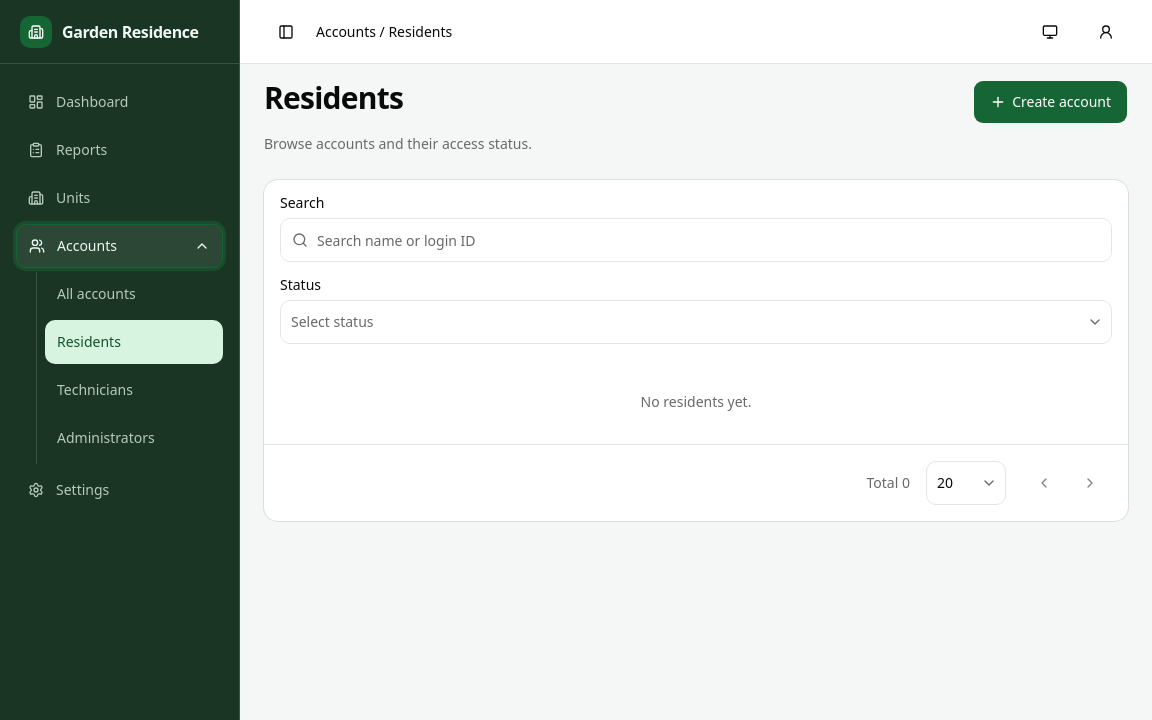
Test: validates account search, opens the correct submenu, and supports keyboard collapse and navigation
The width and height of the screenshot is (1152, 720).
Press Enter
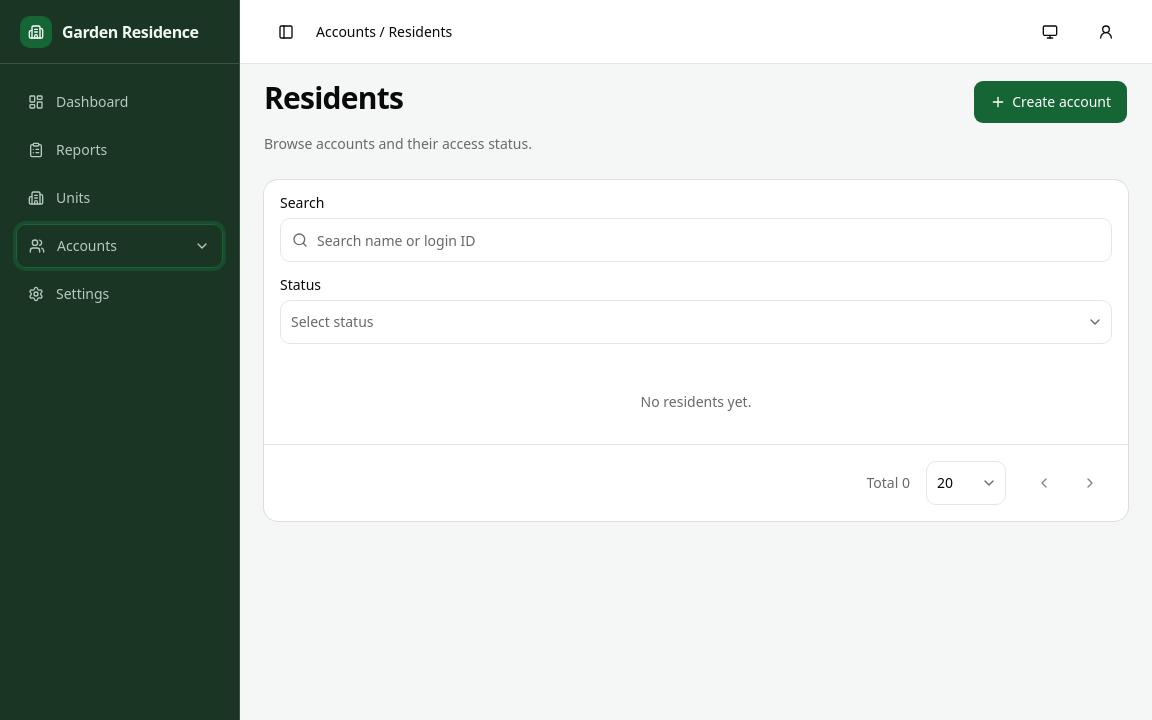
Check: the button "Accounts" is collapsed, box x1=16 y1=224 x2=223 y2=268
Press Enter
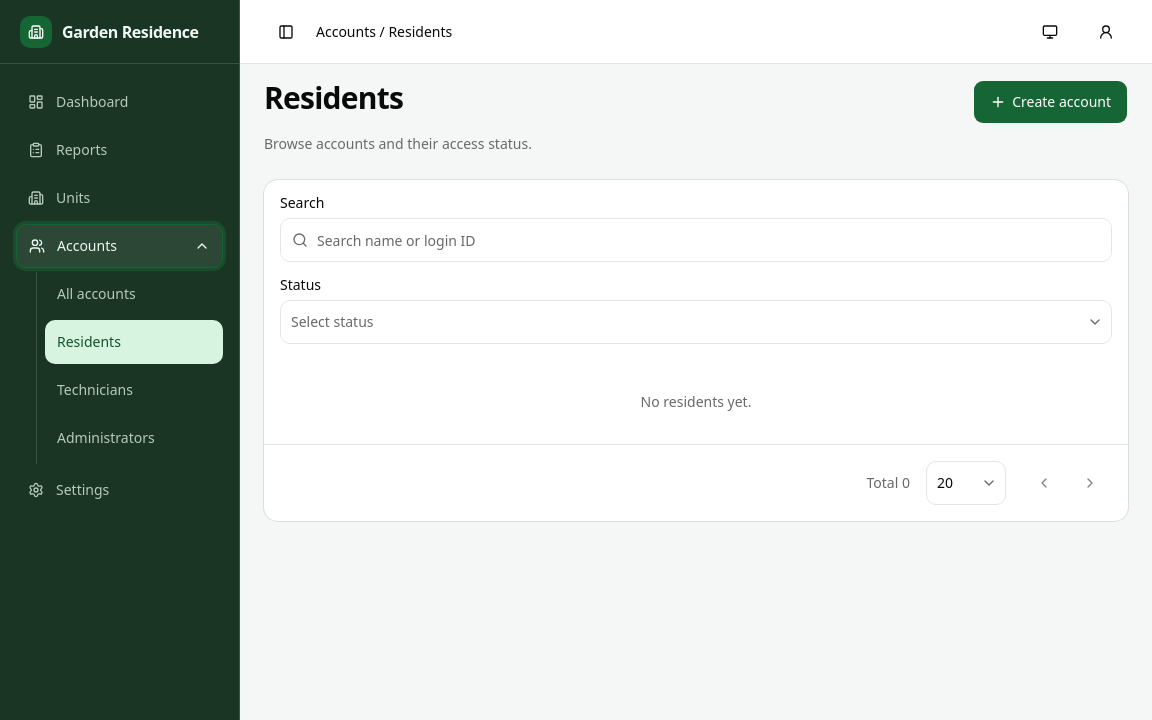
Click the link "Technicians" at (95,390), box x1=57 y1=380 x2=133 y2=399
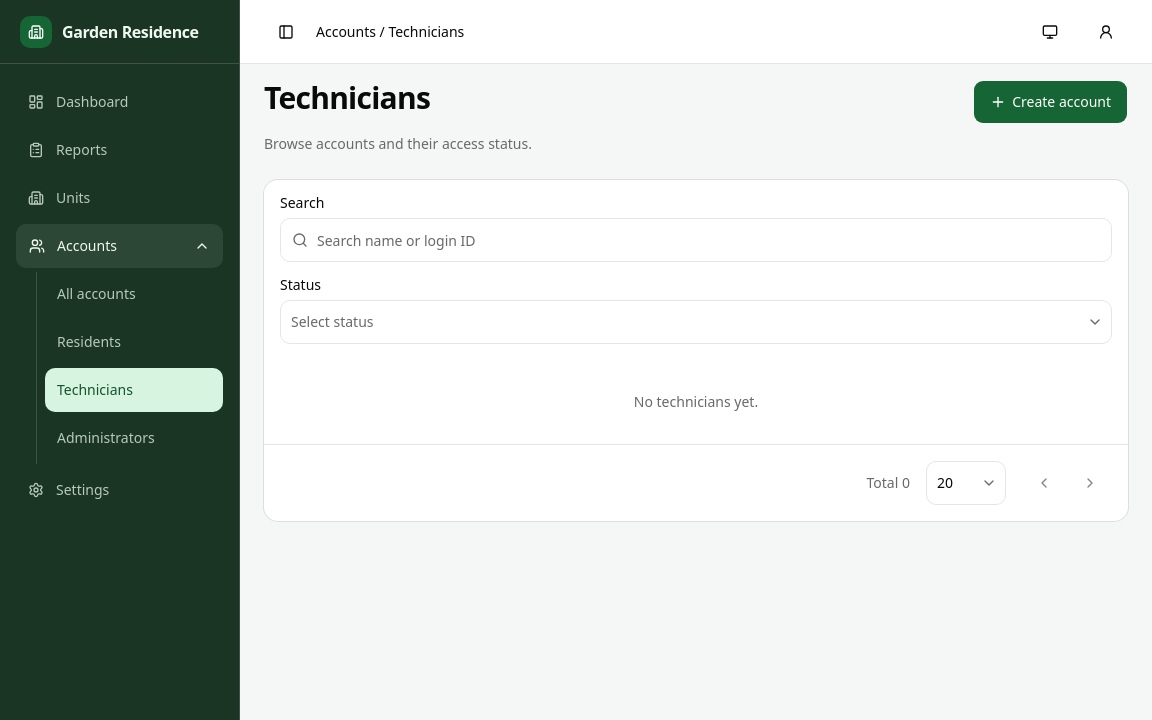
Check: the heading "Technicians" is shown, box x1=264 y1=80 x2=430 y2=116
